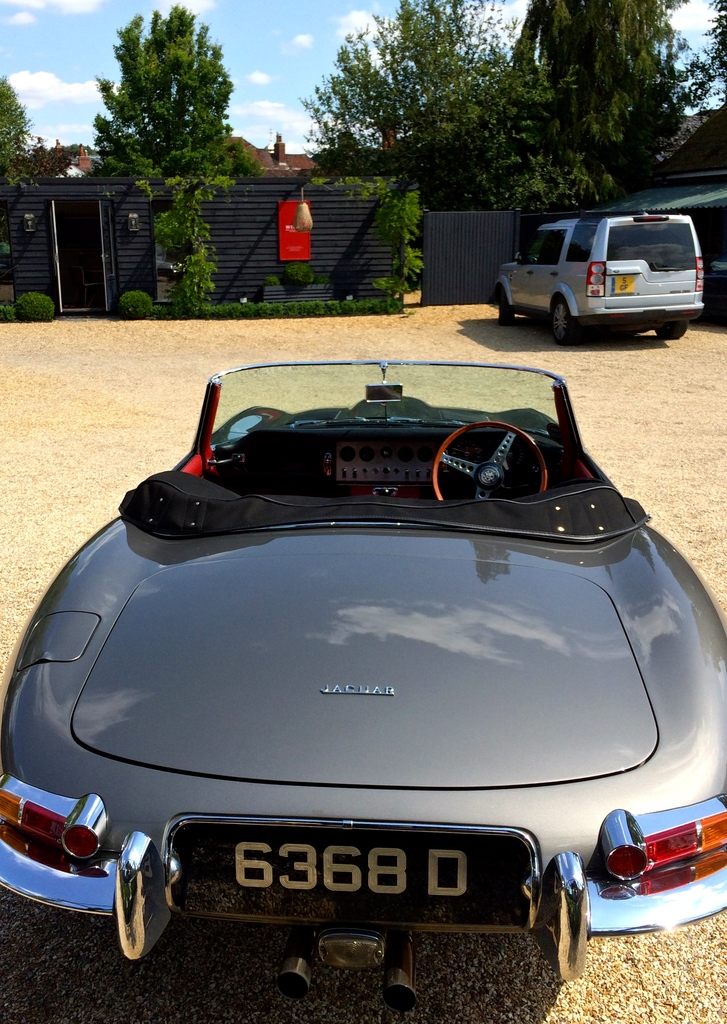Car: (9, 326, 727, 990), (493, 206, 702, 346)
